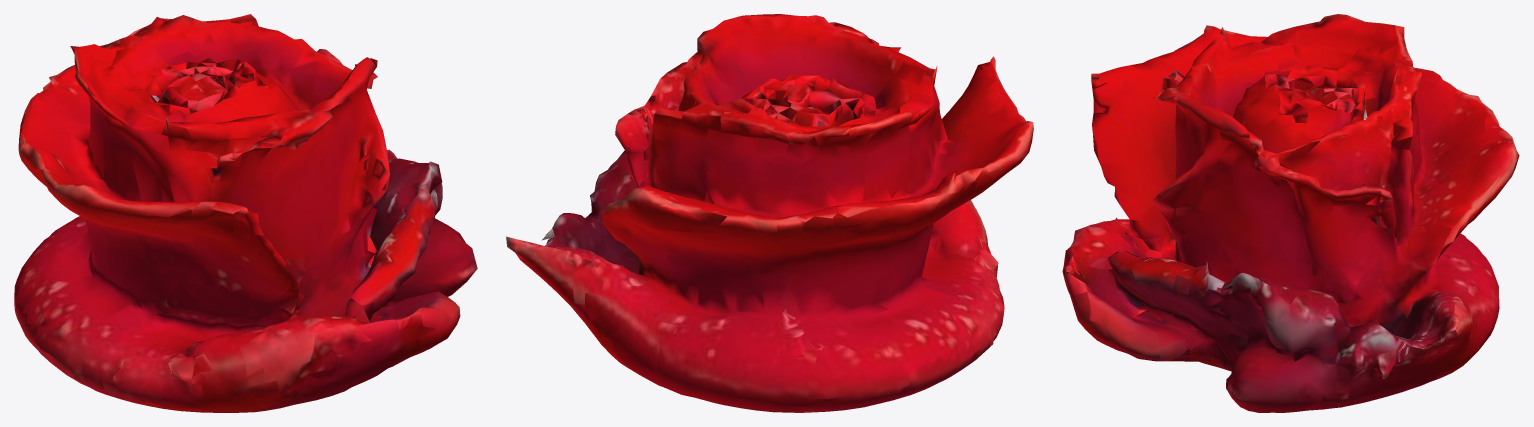
3 renders of one model, left to right at view 1: azimuth 30°, elevation 25°; view 2: azimuth 150°, elevation 25°; view 3: azimuth 270°, elevation 25°, orthographic. The views are drawn at different scales.
Parts seen in each view (by area): view 1: 12414a7f; view 2: 12414a7f; view 3: 12414a7f.
Boxes of the visible parts, x1,y1,x2,y2 form: 12414a7f: (14, 14, 477, 412); 12414a7f: (506, 14, 1033, 412); 12414a7f: (1062, 14, 1519, 412).
Size of the model in its own units: 0.0771 by 0.0499 by 0.0753.
1 material, 1 textured.
